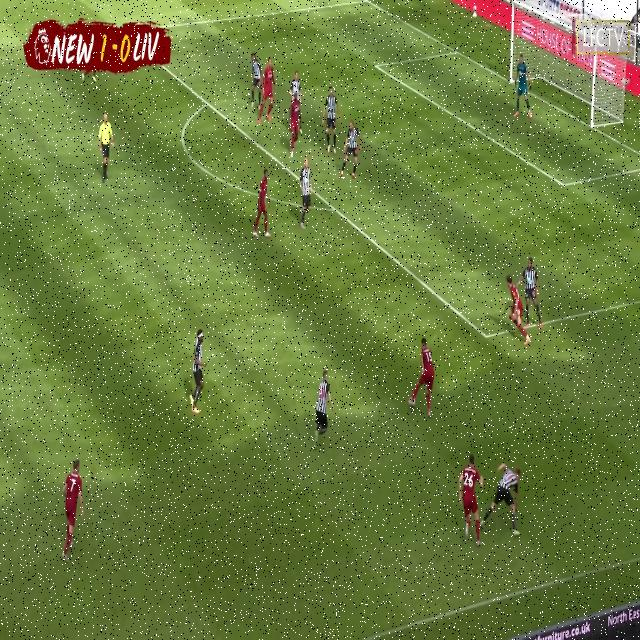Ball: (407, 394, 418, 411)
GoalKeeper: (513, 57, 534, 120)
TEAM 1: (407, 337, 437, 418), (62, 458, 85, 562), (458, 454, 484, 545), (503, 274, 529, 342), (254, 169, 272, 239), (262, 55, 276, 125), (289, 95, 301, 158)
TEAM 2: (478, 462, 520, 542), (190, 324, 206, 428), (519, 260, 541, 329), (340, 121, 364, 182), (315, 373, 331, 439), (324, 91, 339, 156), (299, 160, 313, 227), (251, 53, 263, 110), (287, 63, 302, 100)
